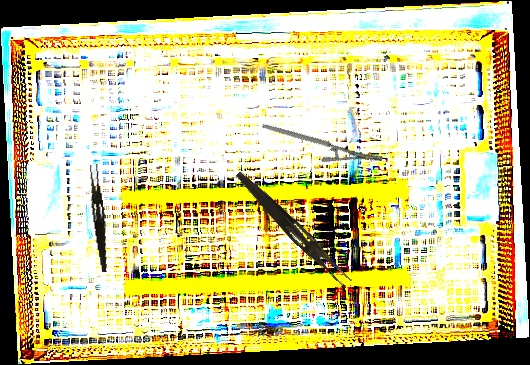Dressing Forceps: (229, 169, 357, 289), (85, 163, 113, 273)
Needle Holder: (261, 89, 384, 195)
